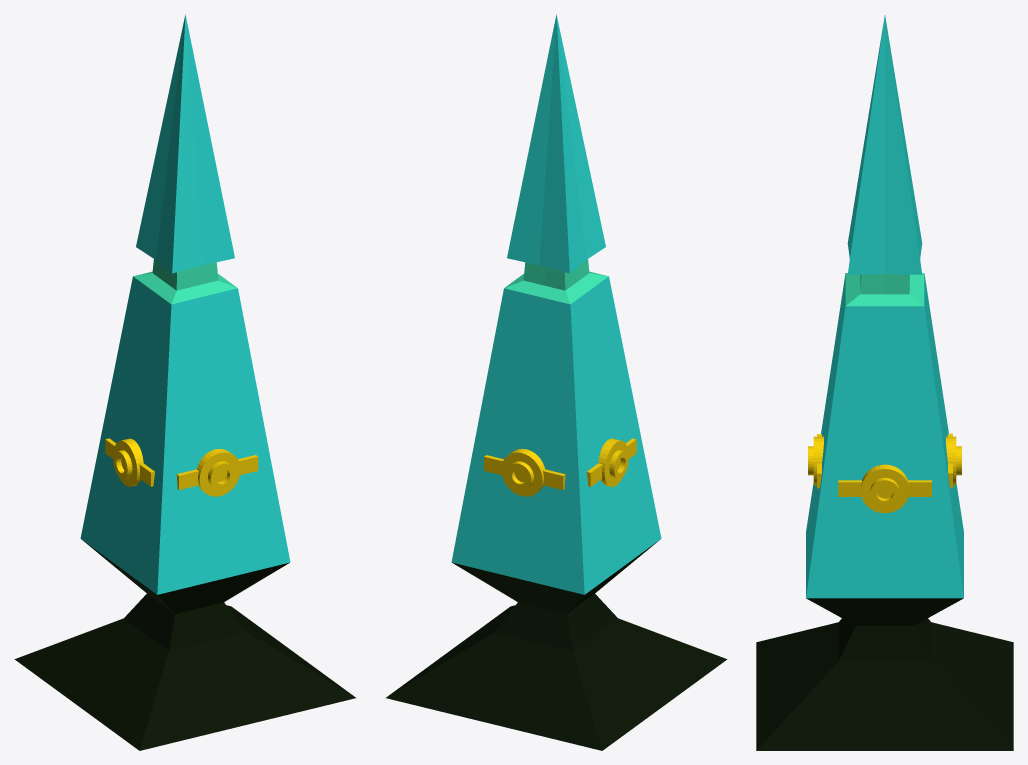
The model's file is obelisk.glb.
The picture shows the model from 3 angles, left to right: view 1: azimuth 30°, elevation 25°; view 2: azimuth 150°, elevation 25°; view 3: azimuth 270°, elevation 25°; orthographic projection. The views are drawn at different scales.
Visible parts, largest first — view 1: Stand, Symbol.002, Symbol.001; view 2: Stand, Symbol.003, Symbol.001; view 3: Stand, Symbol.004, Symbol.003, Symbol.002.
Part boxes in pixels (<box>): Stand: <box>14,14,355,750</box>; Symbol.002: <box>176,449,258,496</box>; Symbol.001: <box>105,438,154,486</box>; Stand: <box>386,14,727,750</box>; Symbol.003: <box>484,449,565,496</box>; Symbol.001: <box>586,438,636,486</box>; Stand: <box>756,15,1013,750</box>; Symbol.004: <box>838,464,931,513</box>; Symbol.003: <box>946,433,961,487</box>; Symbol.002: <box>808,434,823,488</box>.
Size of the model in its own units: 3.16 by 9.24 by 3.16.
